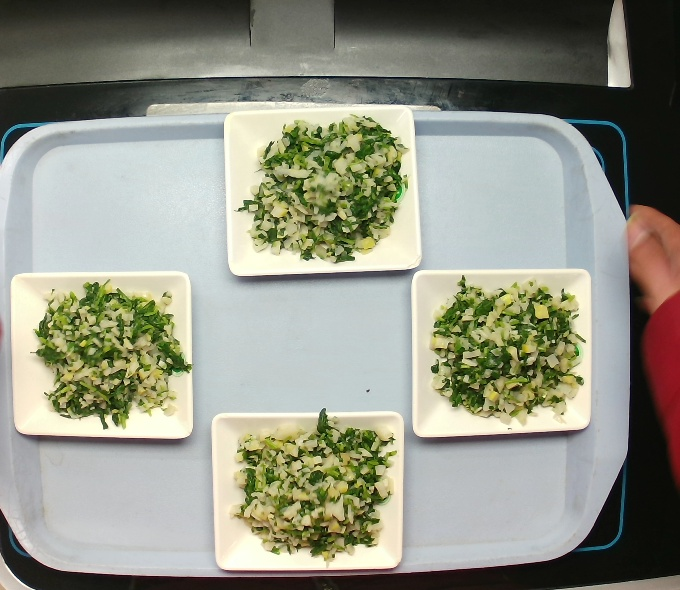wcq-MaLanTouBanChunSun: (226, 407, 404, 559), (418, 273, 588, 430), (19, 285, 197, 426), (241, 114, 403, 261)
